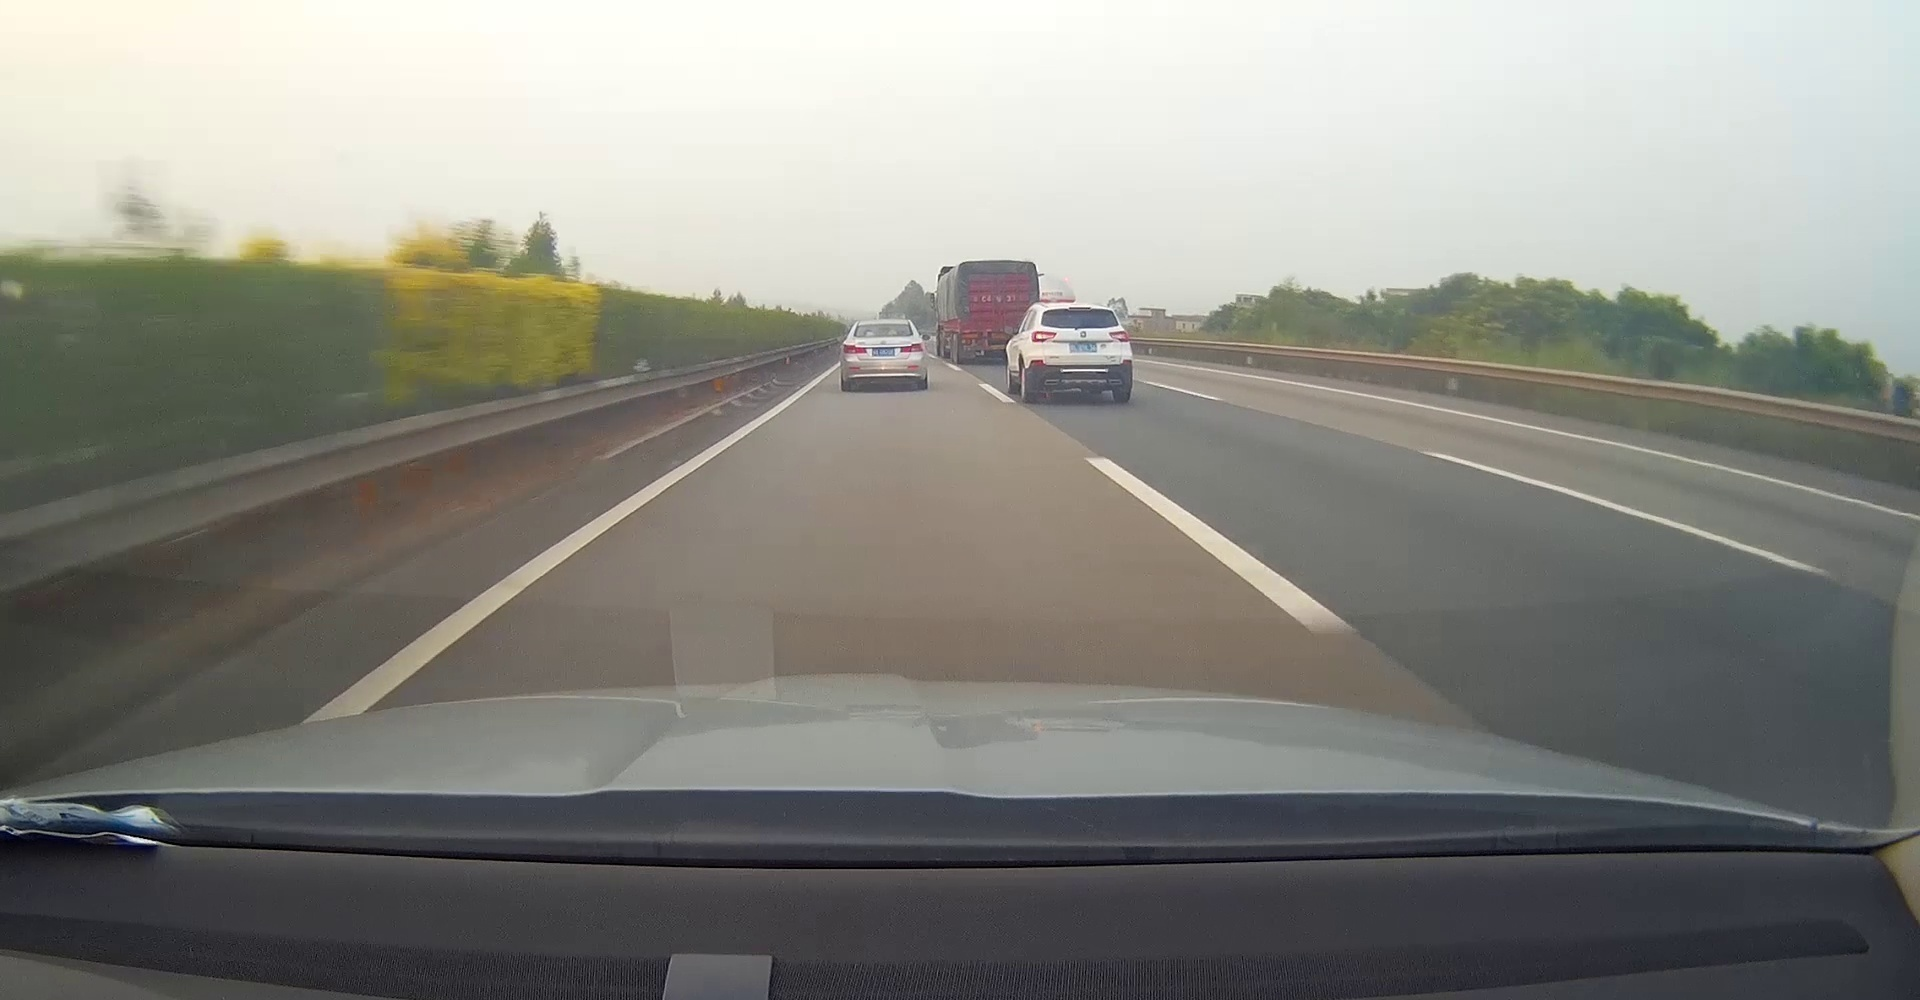L_light: (1031, 331, 1058, 341), (843, 344, 866, 354)
R_light: (899, 341, 924, 353), (1109, 330, 1129, 341)
T_light: (1069, 306, 1091, 311), (877, 324, 890, 327)
day-no: (1027, 303, 1133, 402), (841, 319, 928, 392)
